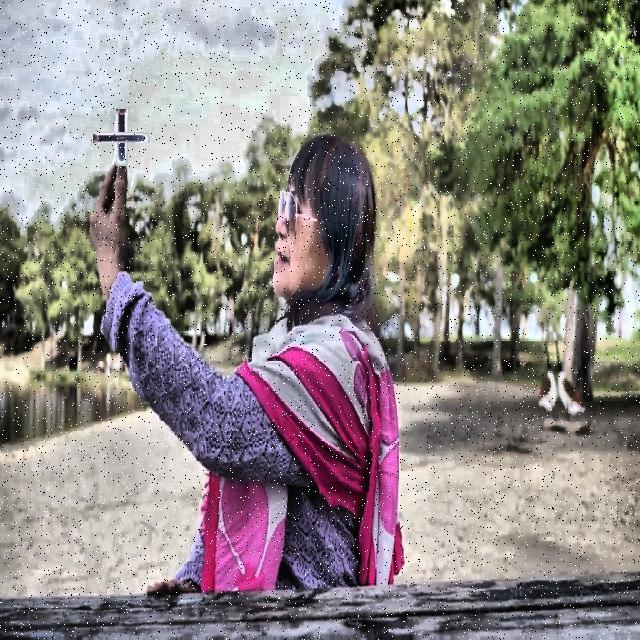Phone: (105, 120, 139, 155)
